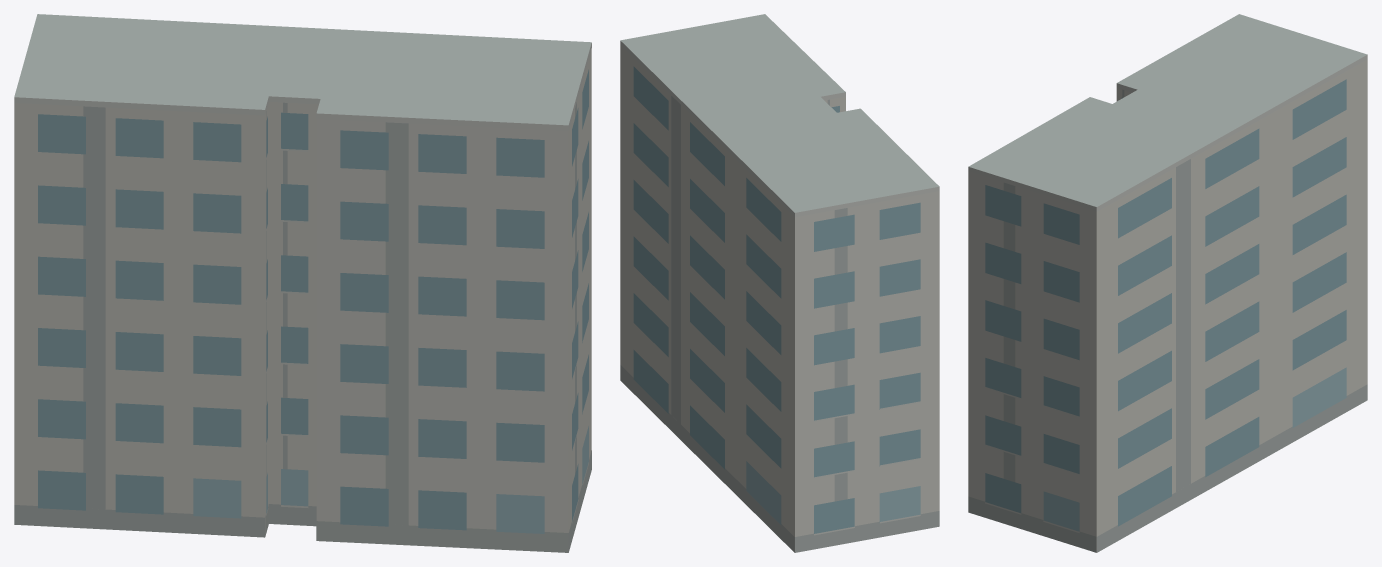
File: survey-upis-32919616.glb
3 views of the same model, side by side, from view 1: azimuth 30°, elevation 25°; view 2: azimuth 150°, elevation 25°; view 3: azimuth 270°, elevation 25° (orthographic). The views are drawn at different scales.
Parts seen in each view (by area): view 1: survey-upis-32919616.tmp; view 2: survey-upis-32919616.tmp; view 3: survey-upis-32919616.tmp.
Boxes of the visible parts, x1=… form: survey-upis-32919616.tmp: x1=14, y1=14, x2=591, y2=552; survey-upis-32919616.tmp: x1=620, y1=14, x2=939, y2=552; survey-upis-32919616.tmp: x1=968, y1=14, x2=1367, y2=552.
Bounding box in the file's own units: 21.94 × 18.3 × 19.17.
